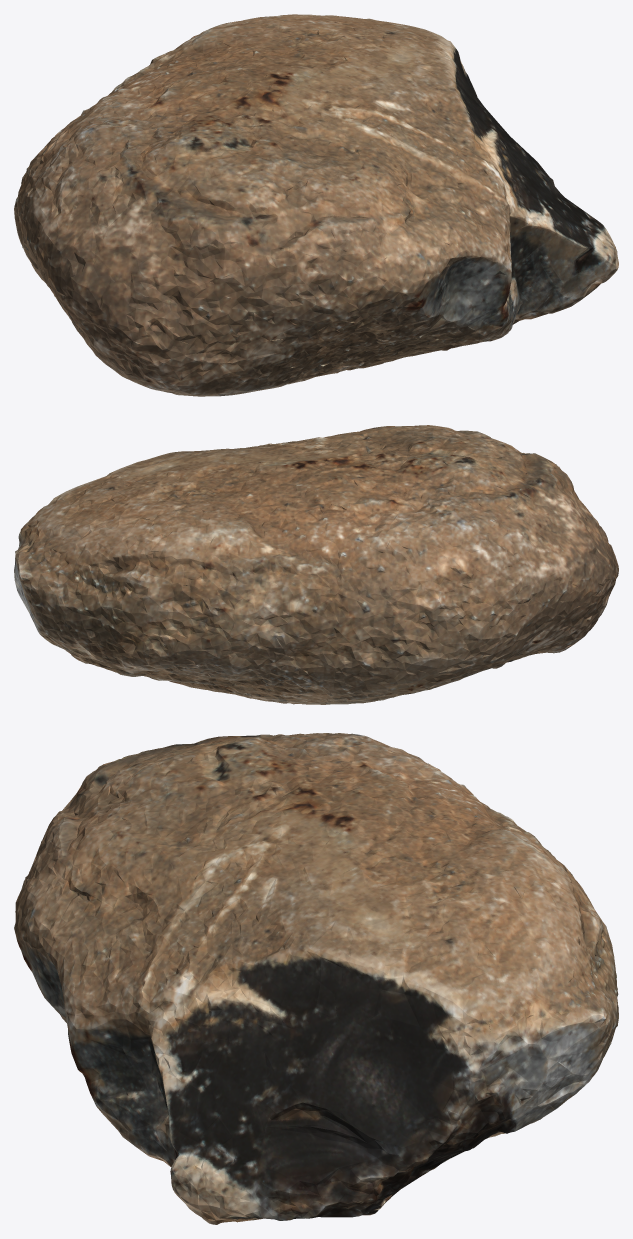
File: flint-0370-lite.glb
The picture shows the model from 3 angles, top to bottom: view 1: azimuth 30°, elevation 25°; view 2: azimuth 150°, elevation 25°; view 3: azimuth 270°, elevation 25°; orthographic projection. The views are drawn at different scales.
Parts seen in each view (by area): view 1: 0370_FLI_PL_low_poly; view 2: 0370_FLI_PL_low_poly; view 3: 0370_FLI_PL_low_poly.
Part boxes in pixels (x1,y1,x2,y2): 0370_FLI_PL_low_poly: (14,14,618,396); 0370_FLI_PL_low_poly: (14,425,618,704); 0370_FLI_PL_low_poly: (14,733,618,1224).
Size of the model in its own units: 73.57 by 33.71 by 60.82.
Materials: 1 (1 with a texture image).
